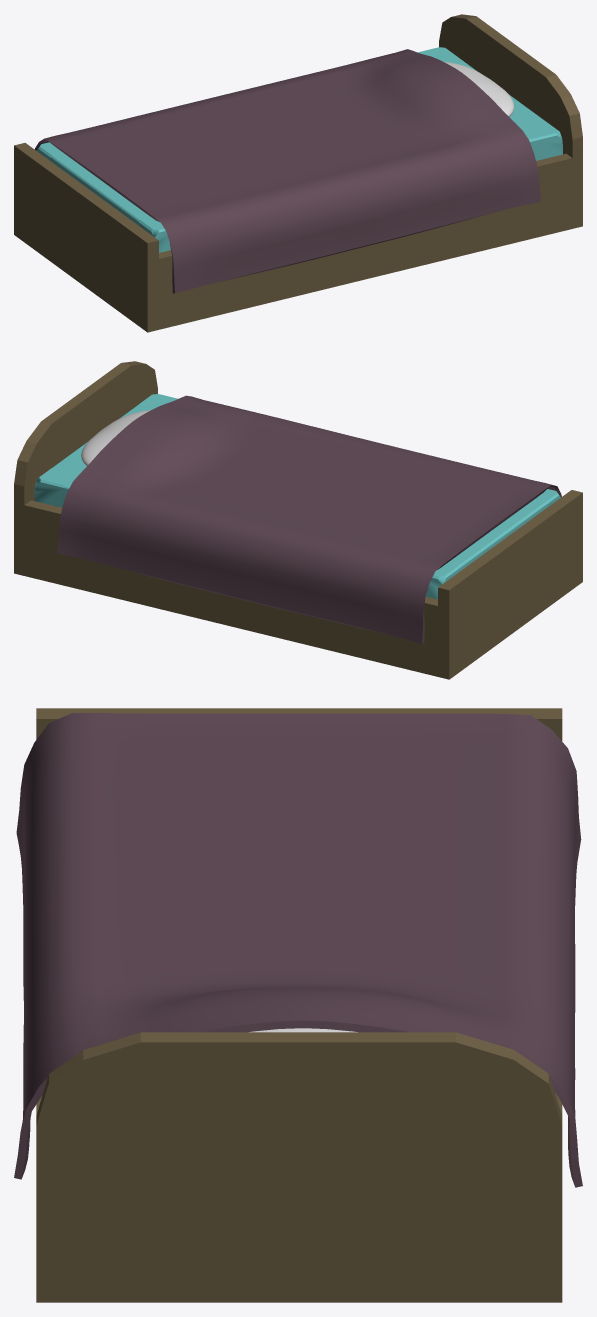
Rendered from NormalBed.fbx.
The picture shows the model from 3 angles, top to bottom: view 1: azimuth 30°, elevation 25°; view 2: azimuth 150°, elevation 25°; view 3: azimuth 270°, elevation 25°; orthographic projection. The views are drawn at different scales.
Parts seen in each view (by area): view 1: bednormal:nCloth2; view 2: bednormal:nCloth2; view 3: bednormal:nCloth2.
Boxes of the visible parts, left/top/right/bottom form: bednormal:nCloth2: left=14, top=14, right=582, bottom=332; bednormal:nCloth2: left=14, top=361, right=582, bottom=679; bednormal:nCloth2: left=14, top=708, right=582, bottom=1302.
Size of the model in its own units: 16.73 by 4.86 by 9.61.
